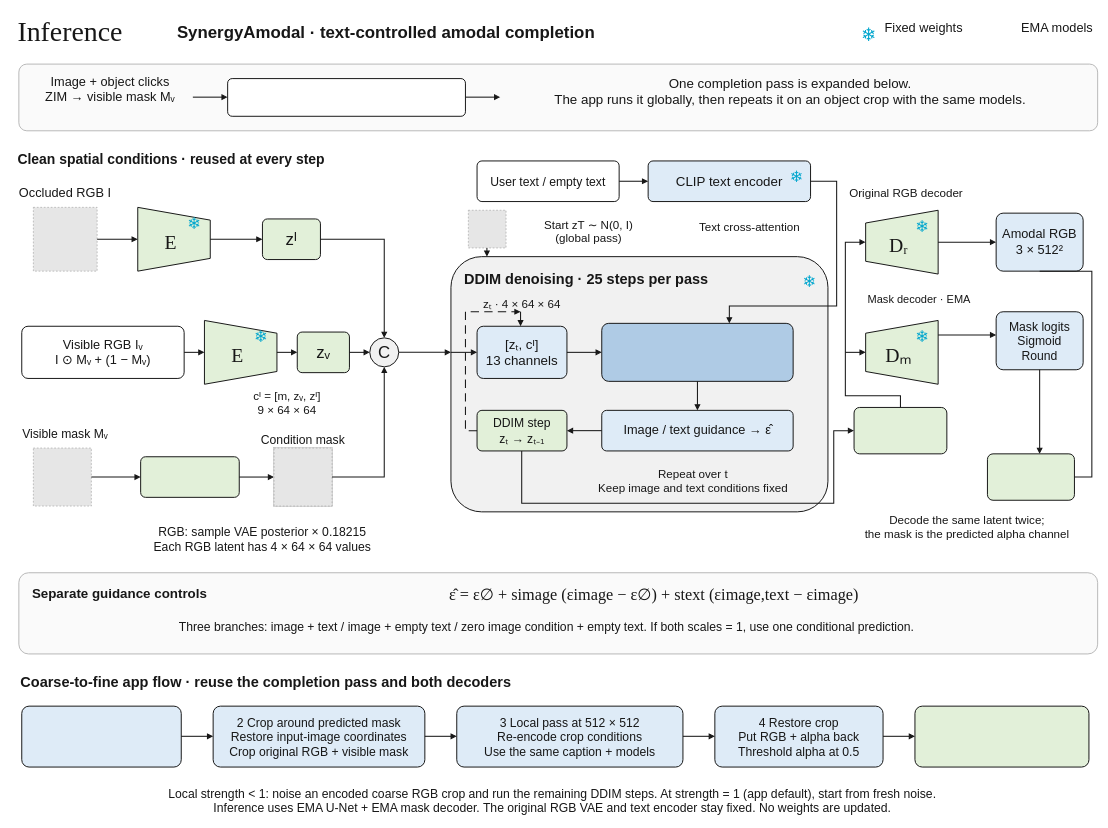
Some shapes in this 1108 by 828 pixel diagram are drawn without their labels. Grey dashed boxes stand in for pictures. Here are the shapes that lost their labels. From the top down, the box of each, then its label:
(227, 78, 466, 117): Optional erosion → resize + pad to 512²
(601, 323, 793, 382): SynergyAmodal U-Net EMA checkpoint
(853, 407, 947, 454): Final z₀ ÷ 0.18215
(140, 456, 239, 498): Invert + resize 64 × 64
(987, 453, 1075, 500): RGB + alpha RGBA
(21, 705, 181, 767): 1 Global pass Resize + pad Start from Gaussian noise
(914, 705, 1089, 767): Final RGBA Completed object Transparent background
